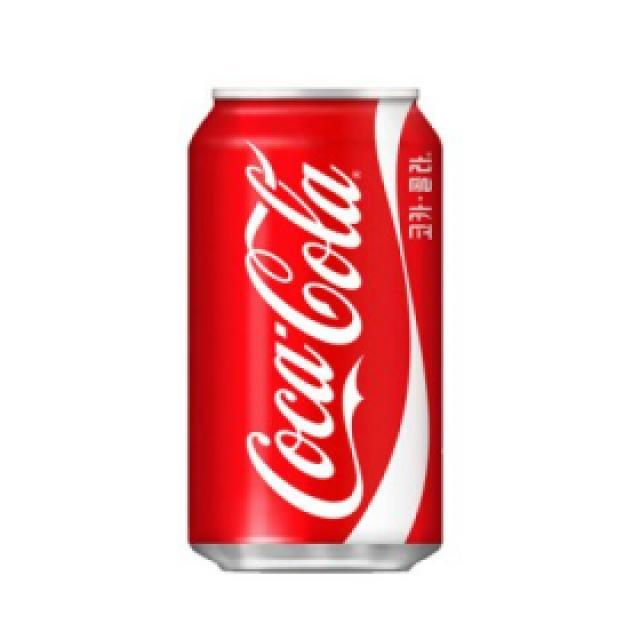coca-cola: (181, 79, 449, 582)
